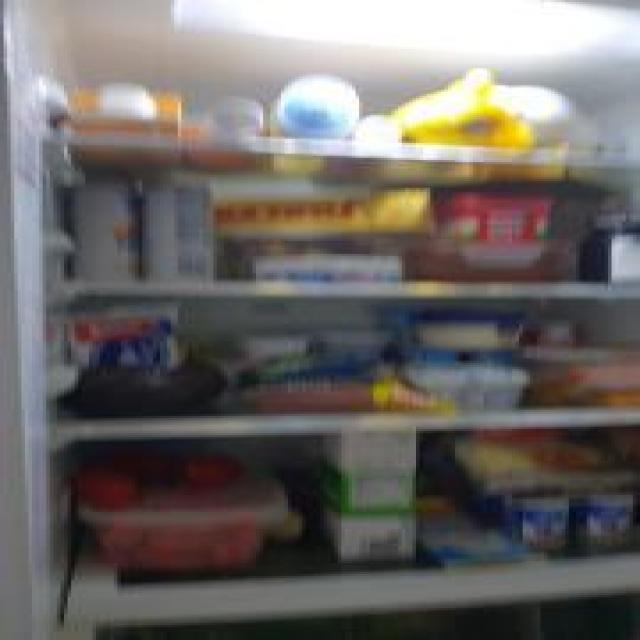butter: (438, 191, 566, 266)
cheese: (249, 252, 402, 296)
marmelade: (572, 215, 640, 278)
mayonaise: (265, 75, 357, 164)
milk: (317, 429, 423, 565)
sausage: (249, 383, 444, 417)
tomato: (171, 449, 245, 496), (74, 464, 146, 509)
yogurt: (68, 369, 234, 422), (491, 492, 576, 549), (569, 492, 640, 543)
